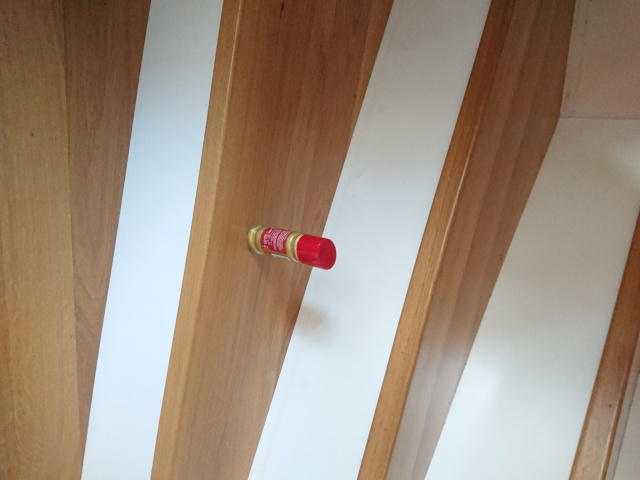Kotanyi Curry Spices Mix 70g: (246, 222, 338, 272)
